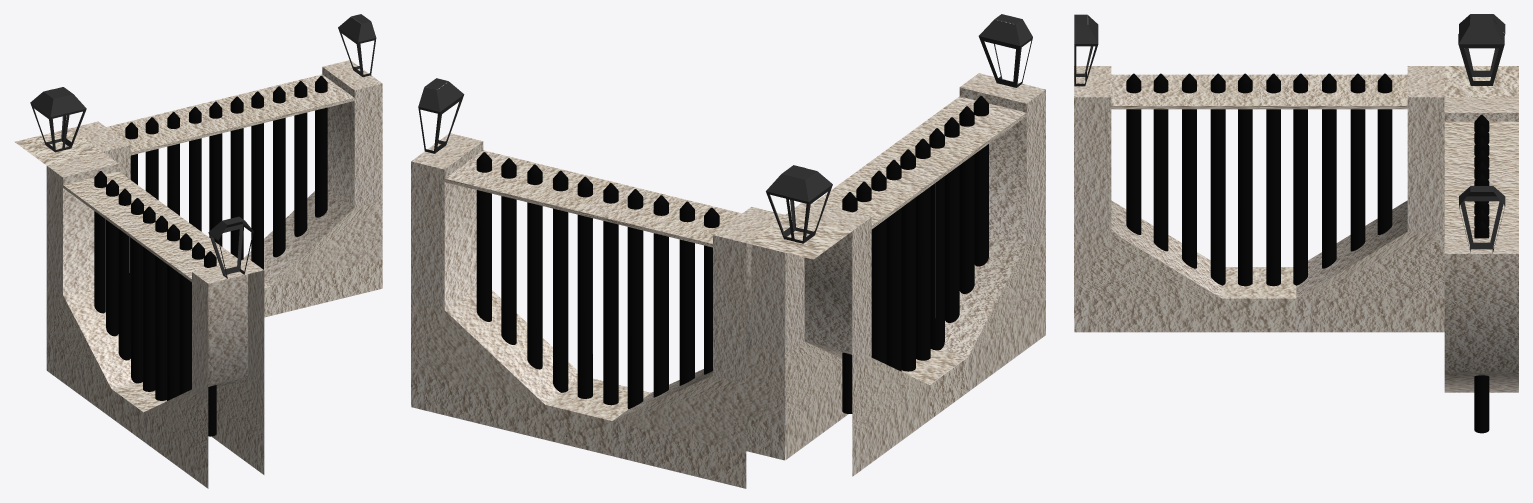
File: fencepostcorneruved.fbx
3 renders of one model, left to right at view 1: azimuth 30°, elevation 25°; view 2: azimuth 150°, elevation 25°; view 3: azimuth 270°, elevation 25°, orthographic. The views are drawn at different scales.
Visible parts, largest first — view 1: pCube11; view 2: pCube11; view 3: pCube11.
Part boxes in pixels (x1=…): pCube11: x1=15, y1=14, x2=382, y2=488; pCube11: x1=411, y1=14, x2=1045, y2=488; pCube11: x1=1074, y1=14, x2=1518, y2=433.
Size of the model in its own units: 6 by 4.42 by 6.
